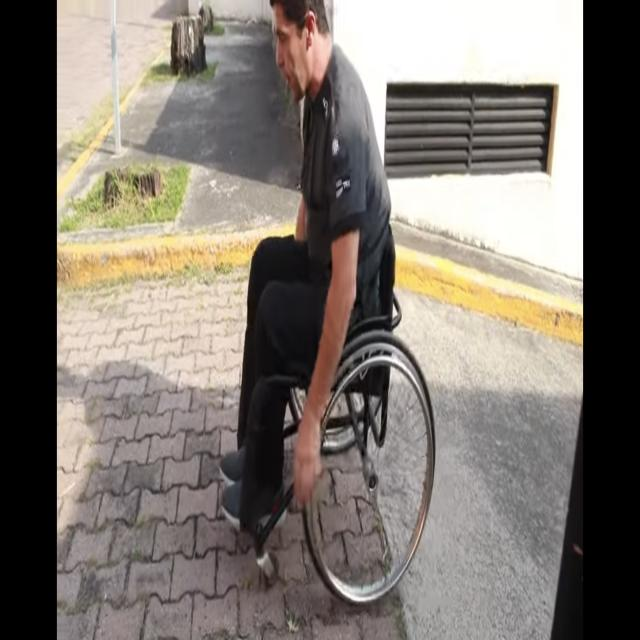wheelchairs: (223, 212, 438, 617)
